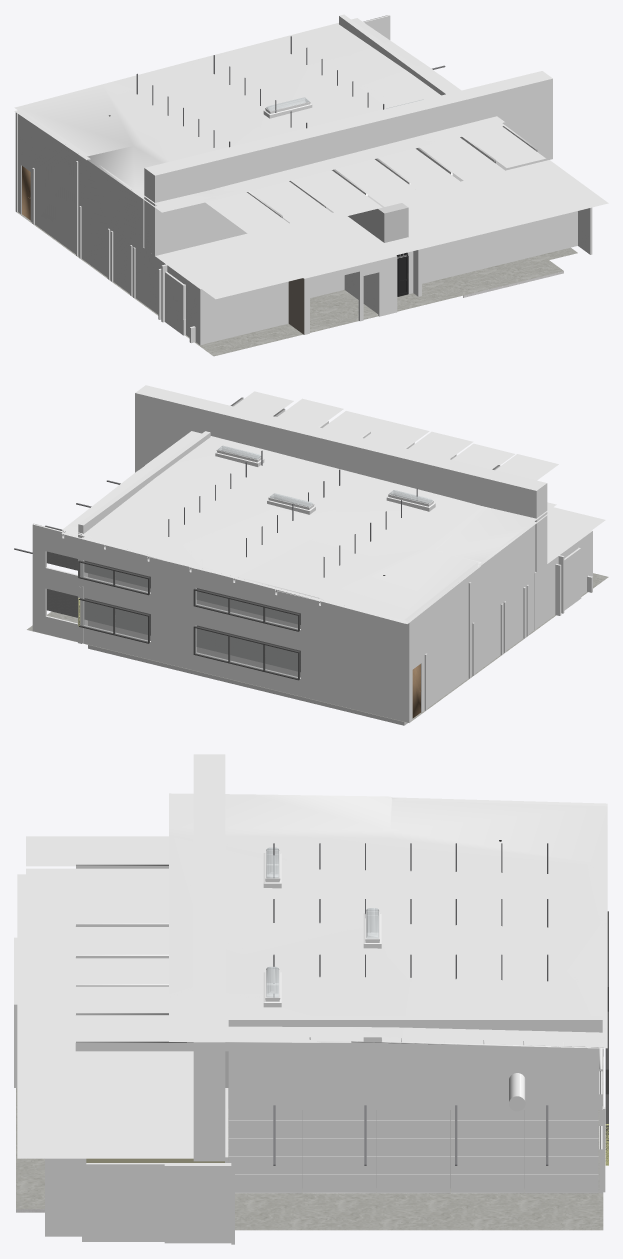
Rendered from small_hub_01.glb.
3 renders of one model, top to bottom at view 1: azimuth 30°, elevation 25°; view 2: azimuth 150°, elevation 25°; view 3: azimuth 270°, elevation 25°, orthographic. The views are drawn at different scales.
Visible parts, largest first — view 1: Mesh7434 Group1241 Group1240 Group1239 Model, Mesh54_Group4_Model_FrontColor, top_part, rooms_wall, windows_wall, main_floor, Mesh8748 Group1263 Group1249 Model, Mesh8741 Group1257 Group1249 Model, Mesh8747 Group1262 Group1249 Model, Mesh8745 Group1260 Group1249 Model, Mesh8742 Group1258 Group1249 Model, Mesh8743 Group1259 Group1249 Model (+6 smaller); view 2: Mesh7434 Group1241 Group1240 Group1239 Model, windows_wall, Mesh54_Group4_Model_FrontColor, rooms_wall, available_moving_area, Mesh4483_Group214_blind_1_1_blind2_1_1_Model_Shades, Mesh4606_Group259_blind_1_2_blind2_1_2_Model_Shades, top_part, Mesh3863_Group120_Model_FrontColor, Mesh4481_Group212_blind1_blind2_1_Model_Shades, Mesh6567_Group463_blind3_blind2_3_Model_Shades, Mesh8745 Group1260 Group1249 Model (+21 smaller); view 3: Mesh7434 Group1241 Group1240 Group1239 Model, Mesh3863_Group120_Model_FrontColor, top_part, rooms_wall, main_floor, Mesh54_Group4_Model_FrontColor, great_wall.009, great_wall.005, great_wall.007, great_wall.003, Mesh8748 Group1263 Group1249 Model, Mesh8747 Group1262 Group1249 Model (+12 smaller).
Boxes of the visible parts, box(x1,y1,x2,y2) form: Mesh7434 Group1241 Group1240 Group1239 Model: box(14, 18, 504, 212); Mesh54_Group4_Model_FrontColor: box(144, 71, 552, 255); top_part: box(156, 160, 608, 299); rooms_wall: box(142, 207, 592, 345); windows_wall: box(15, 15, 390, 302); main_floor: box(17, 212, 577, 356); Mesh8748 Group1263 Group1249 Model: box(205, 192, 297, 239); Mesh8741 Group1257 Group1249 Model: box(250, 181, 340, 229); Mesh8747 Group1262 Group1249 Model: box(291, 170, 382, 217); Mesh8745 Group1260 Group1249 Model: box(419, 137, 510, 184); Mesh8742 Group1258 Group1249 Model: box(335, 159, 425, 206); Mesh8743 Group1259 Group1249 Model: box(378, 148, 467, 196); Mesh7434 Group1241 Group1240 Group1239 Model: box(61, 431, 556, 623); windows_wall: box(32, 522, 535, 722); Mesh54_Group4_Model_FrontColor: box(135, 385, 547, 571); rooms_wall: box(534, 530, 592, 629); available_moving_area: box(88, 573, 407, 725); Mesh4483_Group214_blind_1_1_blind2_1_1_Model_Shades: box(196, 625, 300, 672); Mesh4606_Group259_blind_1_2_blind2_1_2_Model_Shades: box(46, 589, 150, 635); top_part: box(547, 508, 605, 562); Mesh3863_Group120_Model_FrontColor: box(78, 431, 210, 576); Mesh4481_Group212_blind1_blind2_1_Model_Shades: box(46, 551, 150, 588); Mesh6567_Group463_blind3_blind2_3_Model_Shades: box(196, 588, 300, 624); Mesh8745 Group1260 Group1249 Model: box(277, 398, 343, 426); Mesh7434 Group1241 Group1240 Group1239 Model: box(169, 793, 607, 1048); Mesh3863_Group120_Model_FrontColor: box(228, 1016, 602, 1109); top_part: box(17, 874, 193, 1158); rooms_wall: box(14, 937, 234, 1244); main_floor: box(16, 1057, 603, 1230); Mesh54_Group4_Model_FrontColor: box(193, 754, 225, 1161); great_wall.009: box(235, 1174, 598, 1193); great_wall.005: box(228, 1138, 598, 1156); great_wall.007: box(228, 1156, 598, 1174); great_wall.003: box(228, 1120, 598, 1137); Mesh8748 Group1263 Group1249 Model: box(26, 836, 278, 866); Mesh8747 Group1262 Group1249 Model: box(26, 895, 168, 925).
Size of the model in its own units: 935 by 310 by 786.
Materials: 72 (13 with a texture image).
